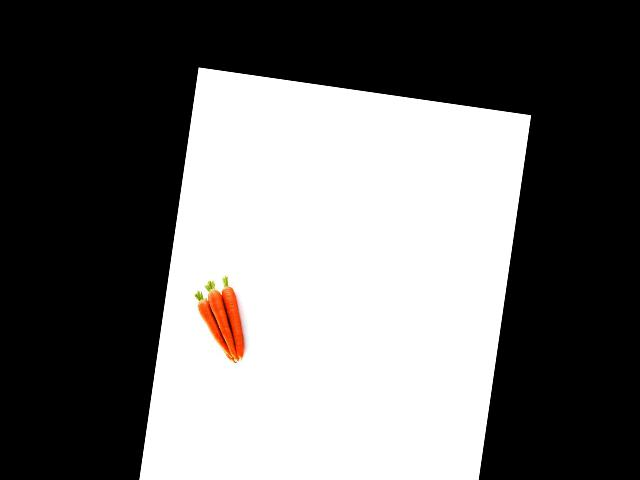carrot: (211, 278, 255, 357)
